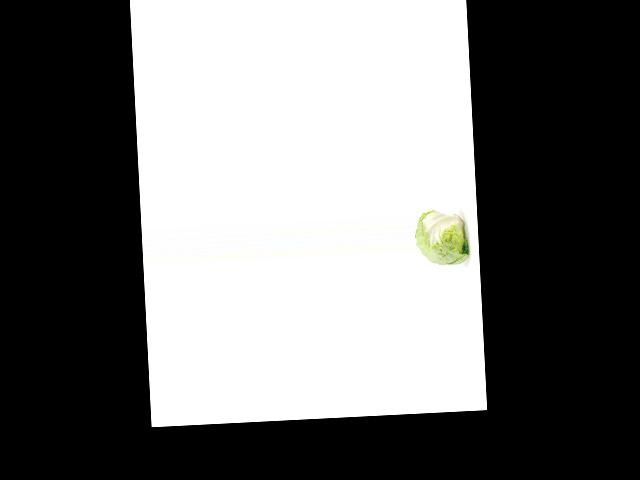lettuce: (414, 207, 472, 268)
